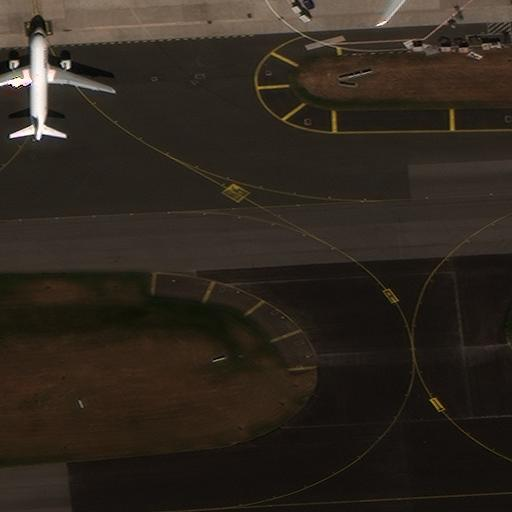Medium Civil Transport: (0, 27, 112, 141)
